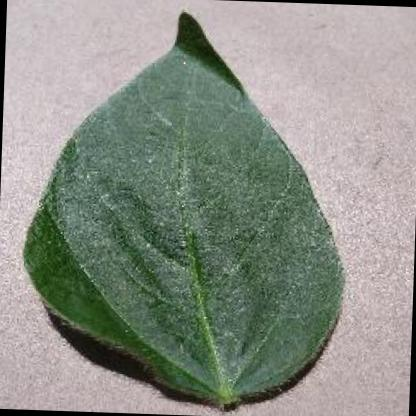soy: (13, 1, 356, 416)
